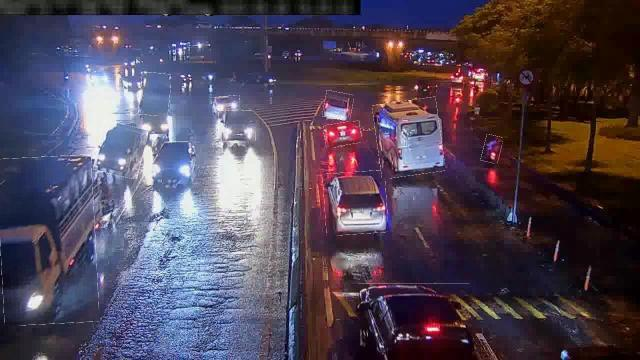Bike: (482, 135, 502, 163)
Bus: (374, 99, 444, 177)
Car: (358, 284, 470, 356), (324, 171, 388, 235), (152, 142, 196, 186), (218, 110, 256, 142), (324, 122, 362, 146), (323, 92, 353, 120), (212, 96, 240, 111)
Truck: (1, 155, 98, 325), (96, 122, 146, 178), (140, 72, 170, 116)
